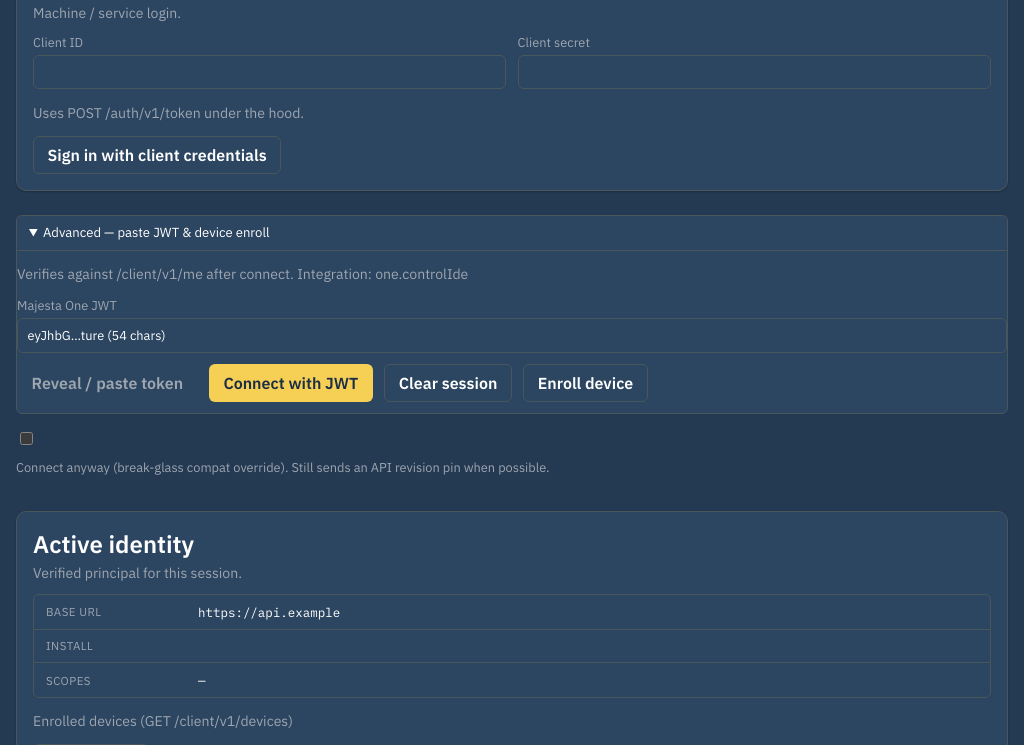
Test case: ConnectPanel › masks the JWT until Reveal and never shows the raw token while masked (CIDE-18)
The image size is (1024, 745).
(page scrolled)
What coordinates should you click on to do the following:
click the button with test id "connect-jwt-reveal"
I would click on:
 (107, 383)
Its box is [17,364,198,402].
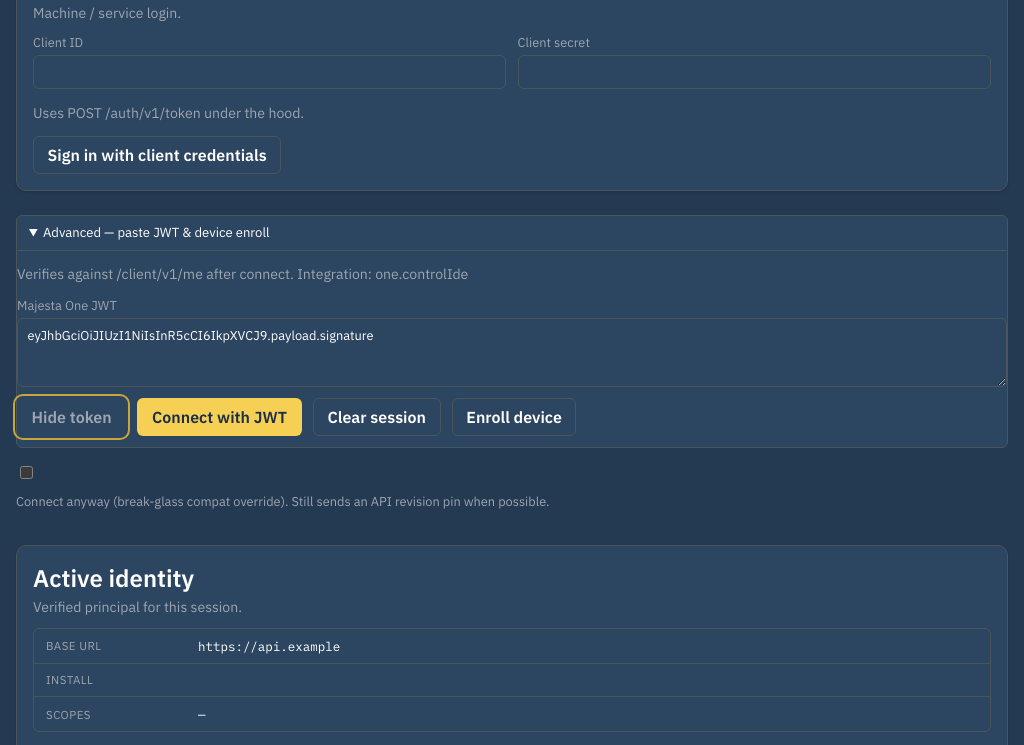
Result: the text box with test id "connect-jwt-input" holds "eyJhbGciOiJIUzI1NiIsInR5cCI6IkpXVCJ9.payload.signature" at [17,318,1007,387]
